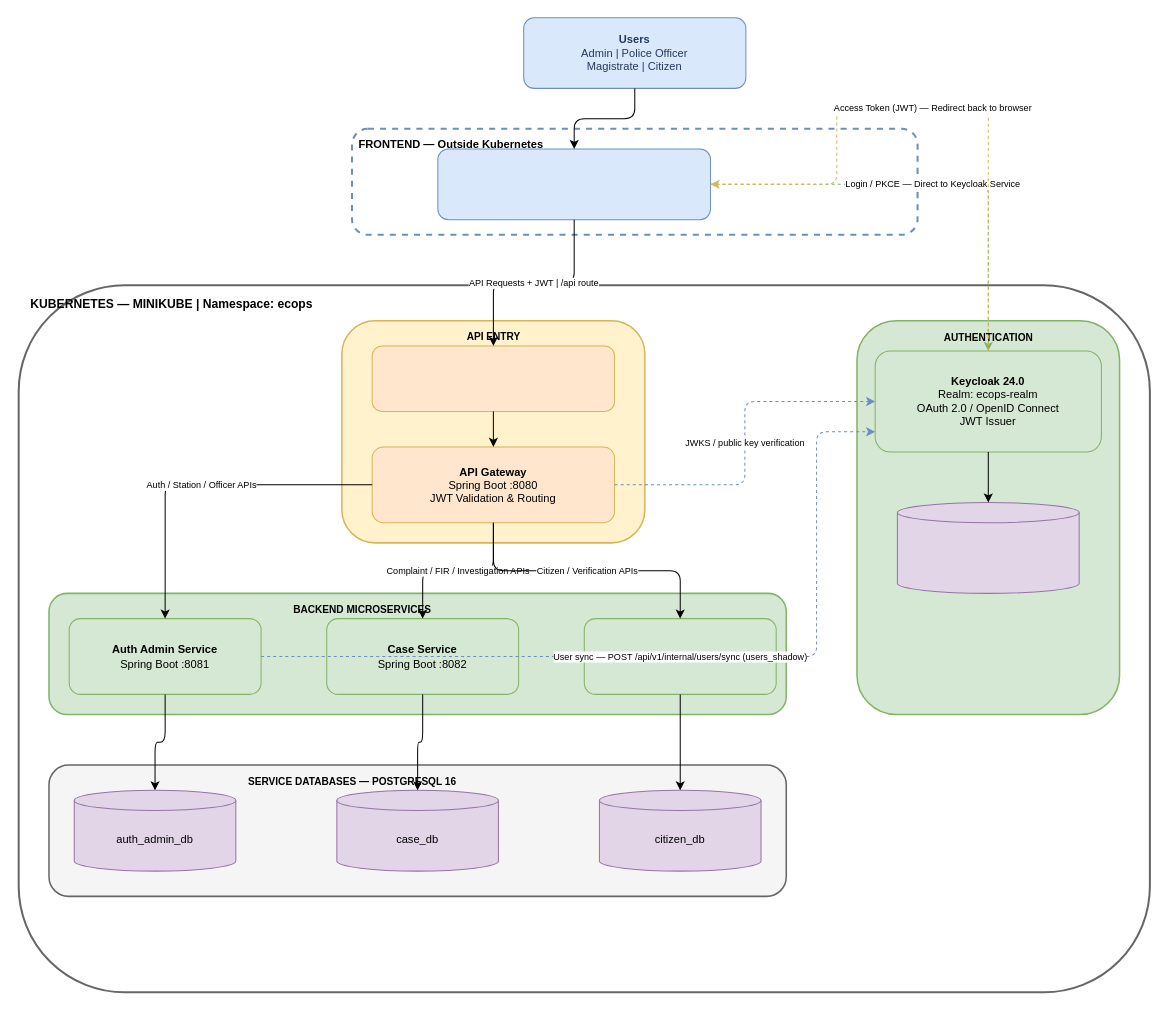
Some shapes in this 1168 by 1011 pixel diagram are drawn without their labels. Here are the shapes that lost their labels. From the top down, the box of each, then its label:
(437, 148, 711, 220): React + Vite + TypeScript Web Application localhost:5173
(371, 345, 615, 412): NGINX Ingress ecops.local
(896, 501, 1079, 593): keycloak_db PostgreSQL 16 postgres-keycloak pod
(583, 618, 776, 694): Citizen Service Spring Boot :8083
